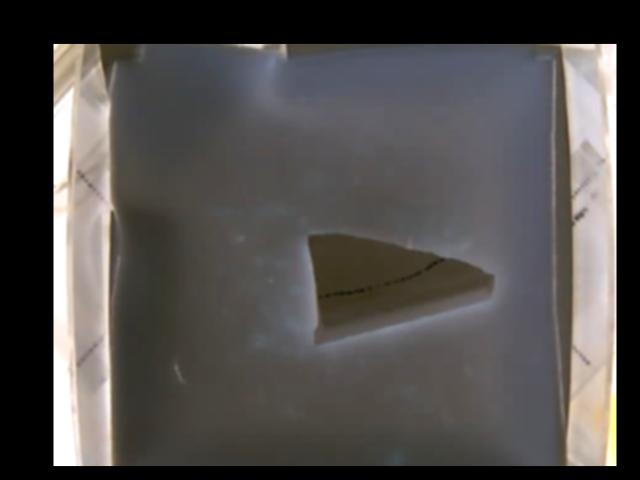China: (303, 233, 495, 346)
